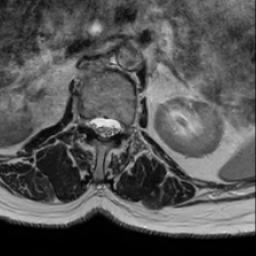CCS_normal: (100, 105, 109, 147)
LFS_normal: (120, 112, 130, 143)
LLS_normal: (109, 108, 120, 143)
RFS_normal: (79, 105, 89, 136)
RLS_normal: (89, 106, 100, 140)
